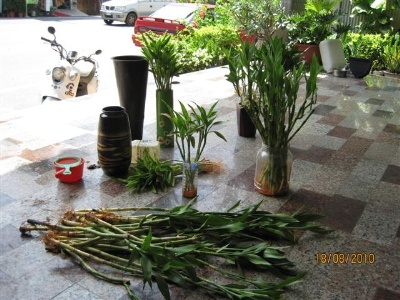bottle: (252, 144, 293, 197), (127, 139, 161, 163), (235, 103, 257, 138), (181, 161, 198, 198)
bowl: (110, 55, 148, 139), (97, 105, 132, 177), (348, 57, 373, 80), (333, 69, 347, 77)
bucket: (318, 38, 346, 74)
